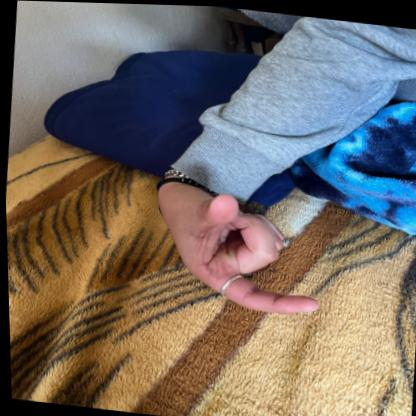G: (145, 174, 338, 330)
